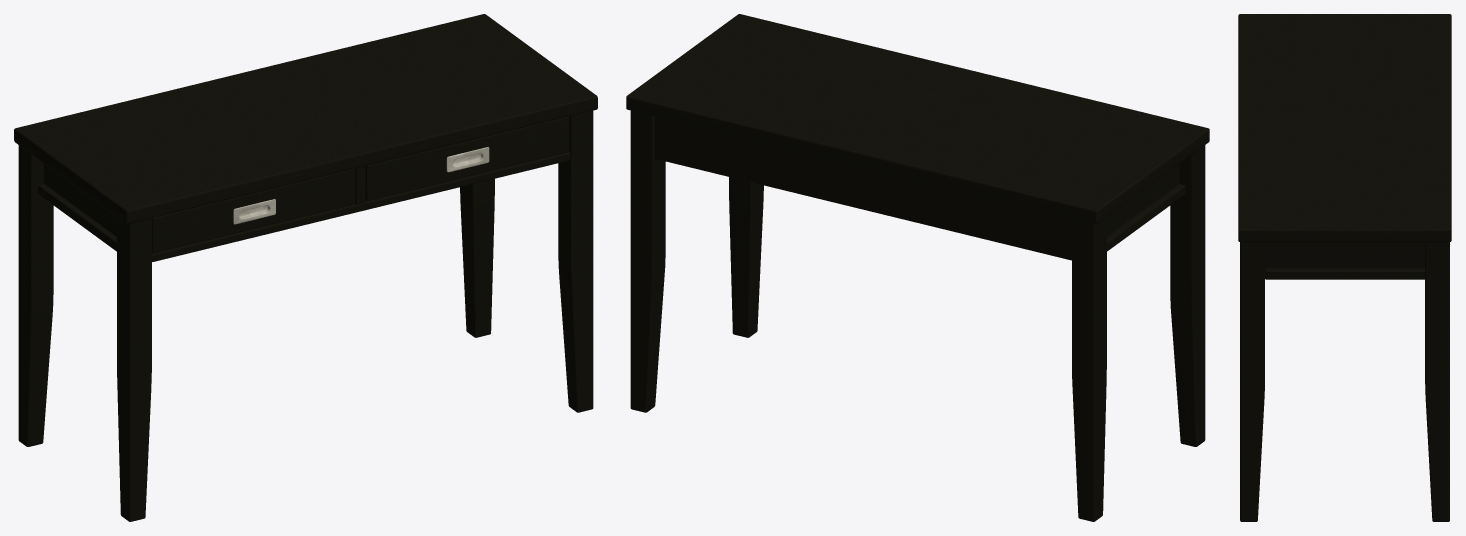
3 renders of one model, left to right at view 1: azimuth 30°, elevation 25°; view 2: azimuth 150°, elevation 25°; view 3: azimuth 270°, elevation 25°, orthographic. The views are drawn at different scales.
Parts seen in each view (by area): view 1: RootNode; view 2: RootNode; view 3: RootNode.
Part boxes in pixels (<box>): RootNode: <box>14,14,597,521</box>; RootNode: <box>626,14,1209,521</box>; RootNode: <box>1238,14,1451,521</box>.
Size of the model in its own units: 1.22 by 0.775 by 0.5086.
Materials: 1 (1 with a texture image).
